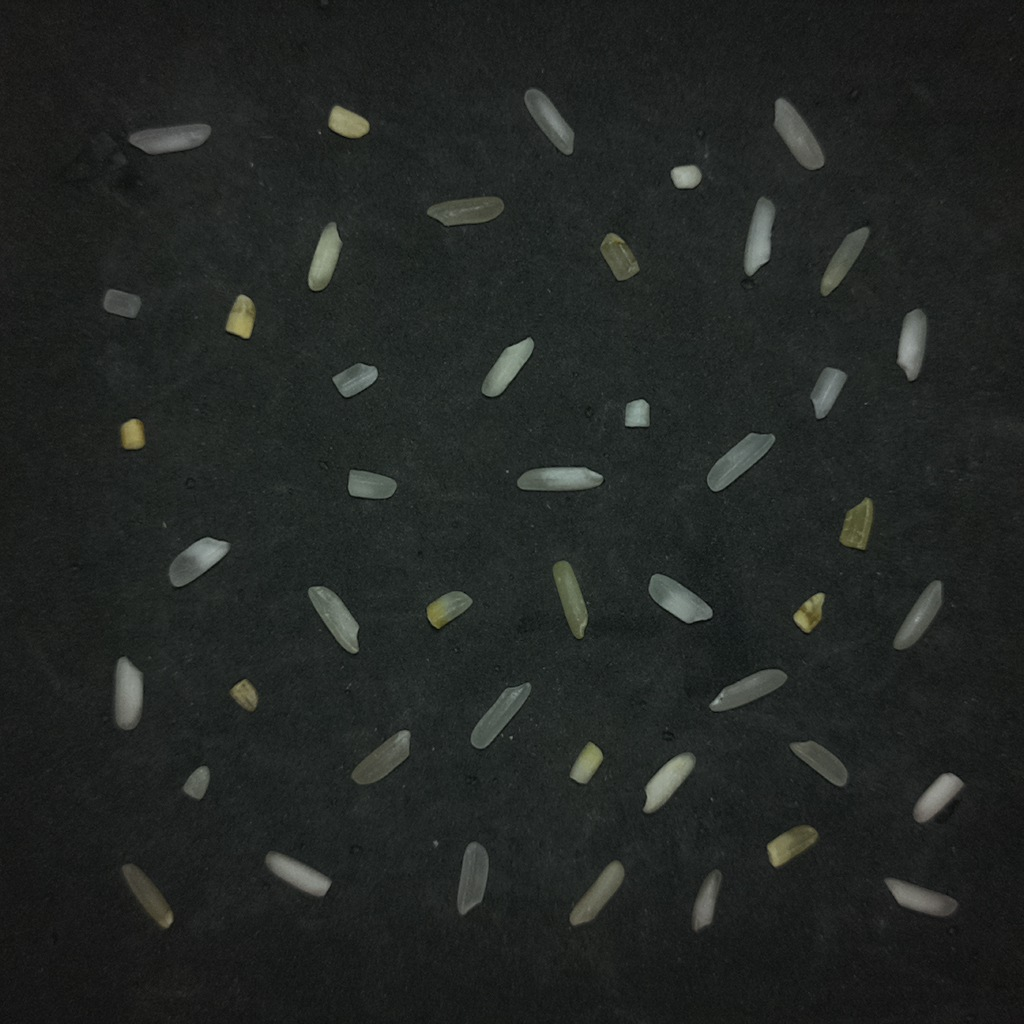broken: (569, 860, 624, 926), (893, 580, 942, 649), (648, 573, 712, 623), (789, 741, 848, 786), (691, 869, 722, 932), (810, 367, 847, 419), (332, 363, 377, 397), (348, 469, 396, 499), (570, 742, 603, 784), (103, 289, 140, 318), (182, 765, 210, 800), (625, 399, 649, 427)
chalky: (481, 337, 535, 398), (643, 752, 694, 813), (265, 851, 331, 897), (168, 537, 228, 587), (884, 877, 957, 916), (913, 773, 964, 823), (744, 196, 775, 276), (307, 222, 341, 291), (113, 657, 144, 731), (517, 467, 603, 491), (897, 309, 926, 380), (670, 164, 702, 190)
damaged: (600, 233, 639, 280), (840, 497, 873, 550), (225, 294, 255, 339), (793, 592, 825, 633), (229, 679, 258, 712), (120, 418, 145, 450)
discolored: (121, 863, 173, 928), (553, 560, 587, 639), (767, 825, 818, 867), (426, 591, 472, 628), (329, 105, 369, 138)
whole: (707, 432, 775, 492), (471, 683, 531, 748), (774, 98, 824, 169), (307, 585, 358, 653), (820, 226, 869, 295), (709, 669, 787, 711), (524, 88, 573, 154), (351, 730, 410, 784), (128, 123, 210, 154), (457, 842, 488, 915), (426, 196, 504, 225)
